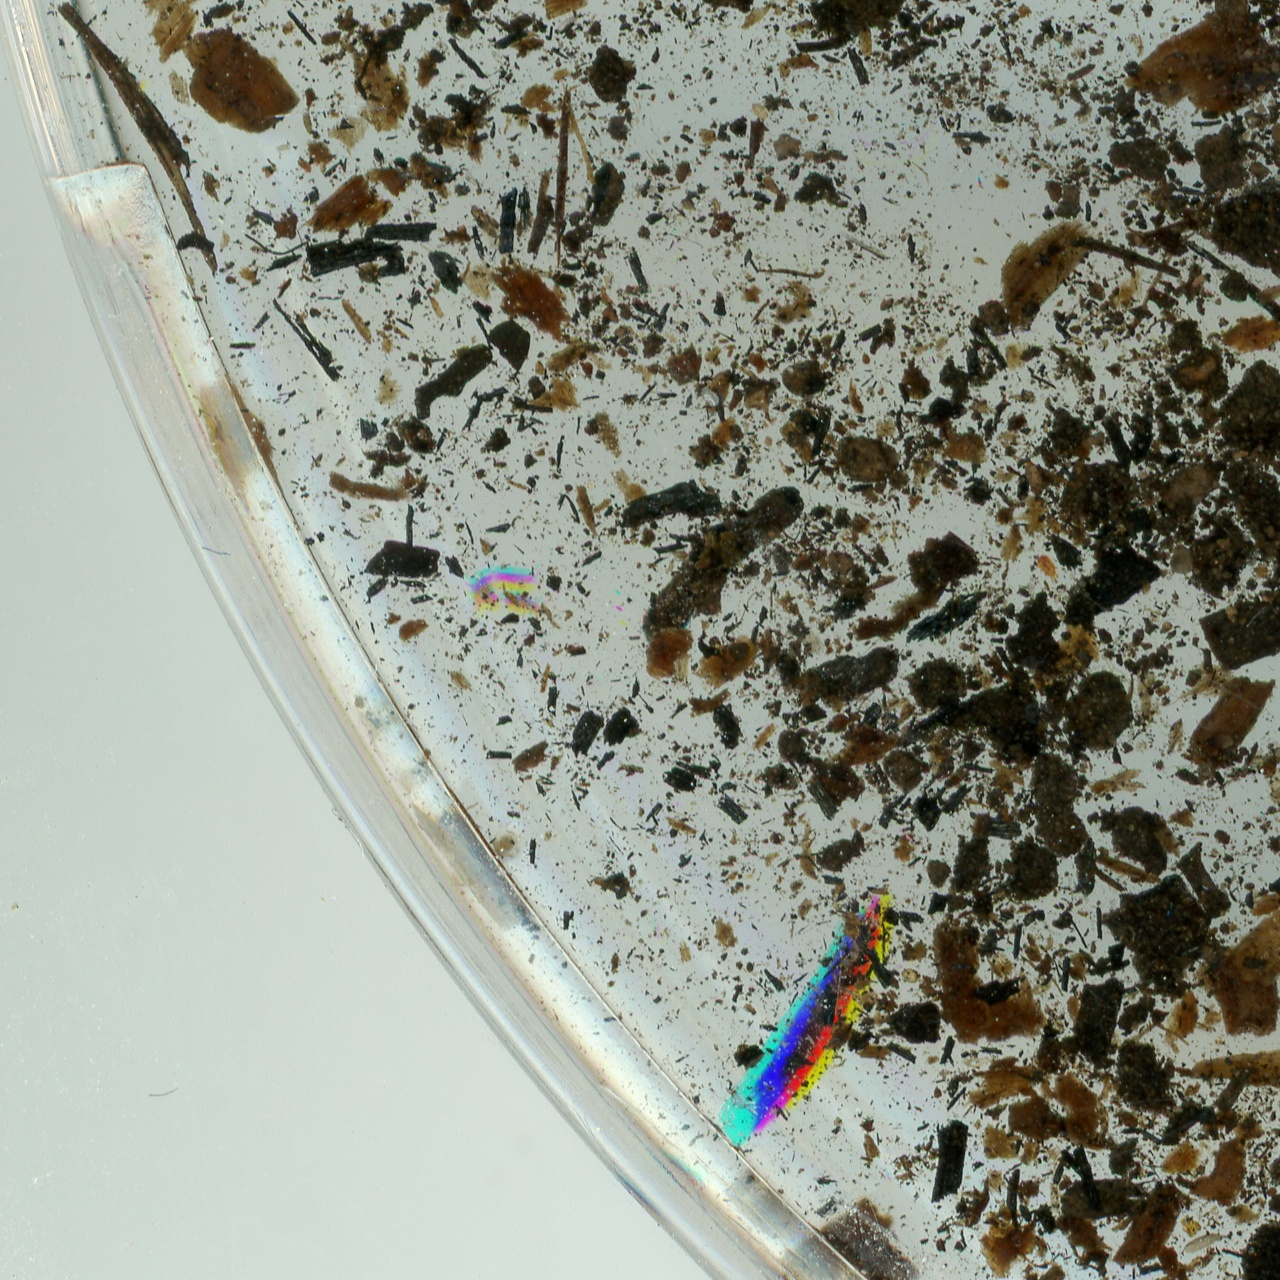arthropod: (495, 579, 565, 633), (1173, 1221, 1234, 1264), (1035, 554, 1062, 585)
